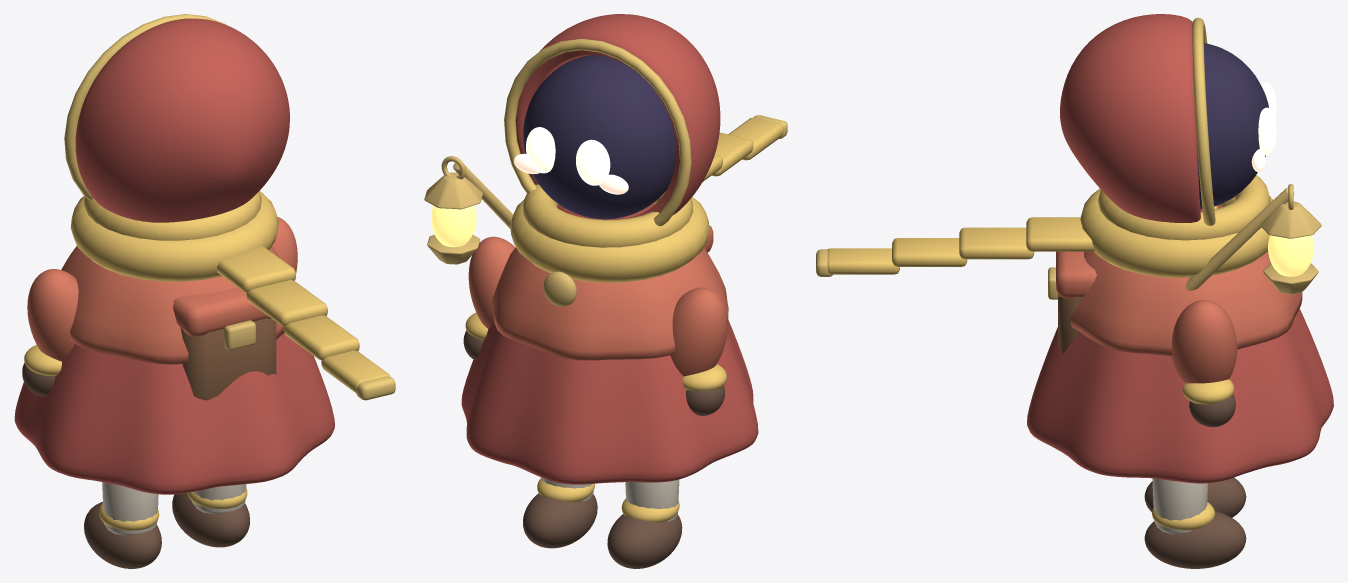
The model's file is pip.glb.
3 views of the same model, side by side, from view 1: azimuth 30°, elevation 25°; view 2: azimuth 150°, elevation 25°; view 3: azimuth 270°, elevation 25° (orthographic). The views are drawn at different scales.
Visible parts, largest first — view 1: PilgrimHood, Cloak, ScarfCollarA, ShoulderCapelet, ExplorerPack, SleeveL, PackFlap, BootL, BootR, HoodRimTrim, ScarfMesh2, ScarfMesh1 (+11 smaller); view 2: Cloak, ShadowFace, ShoulderCapelet, ScarfCollarA, PilgrimHood, HoodRimTrim, SleeveL, BootL, BootR, LanternCapBot, SleeveR, EyeL (+10 smaller); view 3: Cloak, PilgrimHood, ShoulderCapelet, ScarfCollarA, ShadowFace, SleeveR, BootR, HoodRimTrim, LanternCapBot, ScarfMesh2, ShinR, ScarfMesh1 (+11 smaller).
Boxes of the visible parts, box(x1,y1,x2,y2) form: PilgrimHood: box(75, 18, 289, 222); Cloak: box(14, 333, 334, 494); ScarfCollarA: box(70, 191, 278, 281); ShoulderCapelet: box(61, 246, 284, 364); ExplorerPack: box(180, 318, 276, 400); SleeveL: box(27, 269, 78, 361); PackFlap: box(173, 287, 271, 336); BootL: box(84, 502, 161, 568); BootR: box(172, 493, 249, 547); HoodRimTrim: box(64, 14, 226, 199); ScarfMesh2: box(246, 280, 327, 326); ScarfMesh1: box(216, 245, 295, 292); Cloak: box(461, 218, 758, 484); ShadowFace: box(523, 55, 675, 219); ShoulderCapelet: box(492, 247, 728, 360); ScarfCollarA: box(510, 184, 709, 282); PilgrimHood: box(515, 14, 720, 219); HoodRimTrim: box(504, 38, 691, 226); SleeveL: box(670, 287, 727, 376); BootL: box(607, 514, 682, 568); BootR: box(523, 493, 597, 548); LanternCapBot: box(424, 156, 483, 264); SleeveR: box(468, 236, 515, 328); EyeL: box(526, 127, 610, 185); Cloak: box(1027, 205, 1333, 483); PilgrimHood: box(1060, 14, 1202, 222); ShoulderCapelet: box(1070, 251, 1302, 355); ScarfCollarA: box(1080, 175, 1272, 277); ShadowFace: box(1197, 43, 1268, 209); SleeveR: box(1171, 299, 1237, 383); BootR: box(1144, 511, 1246, 568); HoodRimTrim: box(1192, 17, 1217, 225); LanternCapBot: box(1260, 184, 1321, 294); ScarfMesh2: box(959, 227, 1034, 259); ShinR: box(1152, 478, 1208, 534); ScarfMesh1: box(1026, 217, 1094, 251).
Bounding box in the file's own units: 0.7771 × 1.46 × 1.31.
